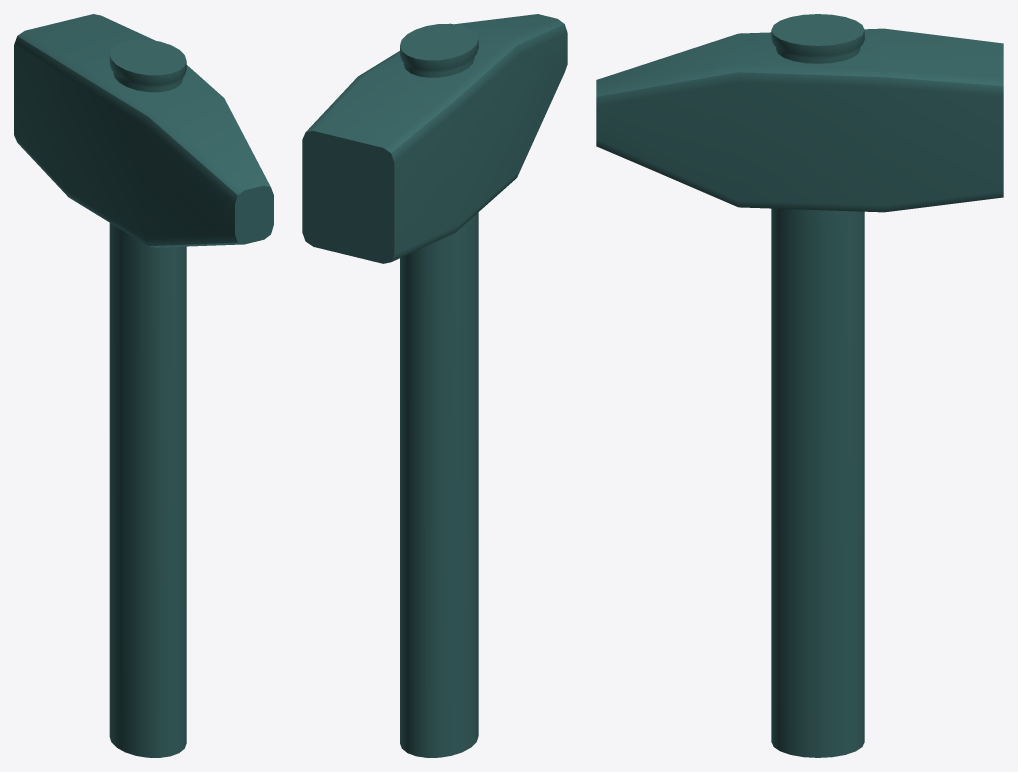
Rendered from hammer 2 low.fbx.
3 views of the same model, side by side, from view 1: azimuth 30°, elevation 25°; view 2: azimuth 150°, elevation 25°; view 3: azimuth 270°, elevation 25° (orthographic). The views are drawn at different scales.
Parts seen in each view (by area): view 1: hammer2_01_low, hammer2_02_low; view 2: hammer2_01_low, hammer2_02_low; view 3: hammer2_02_low, hammer2_01_low.
Part boxes in pixels (<box>): hammer2_01_low: <box>109,39,186,757</box>; hammer2_02_low: <box>14,14,273,247</box>; hammer2_01_low: <box>400,23,478,757</box>; hammer2_02_low: <box>302,14,567,263</box>; hammer2_02_low: <box>596,28,1003,212</box>; hammer2_01_low: <box>771,14,864,757</box>.
Size of the model in its own units: 5.03 by 32.18 by 16.69.
